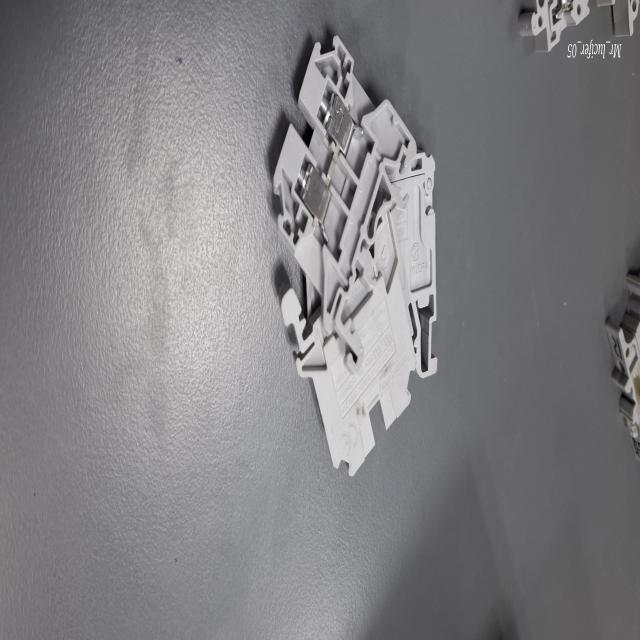Pass: (268, 29, 422, 366)
